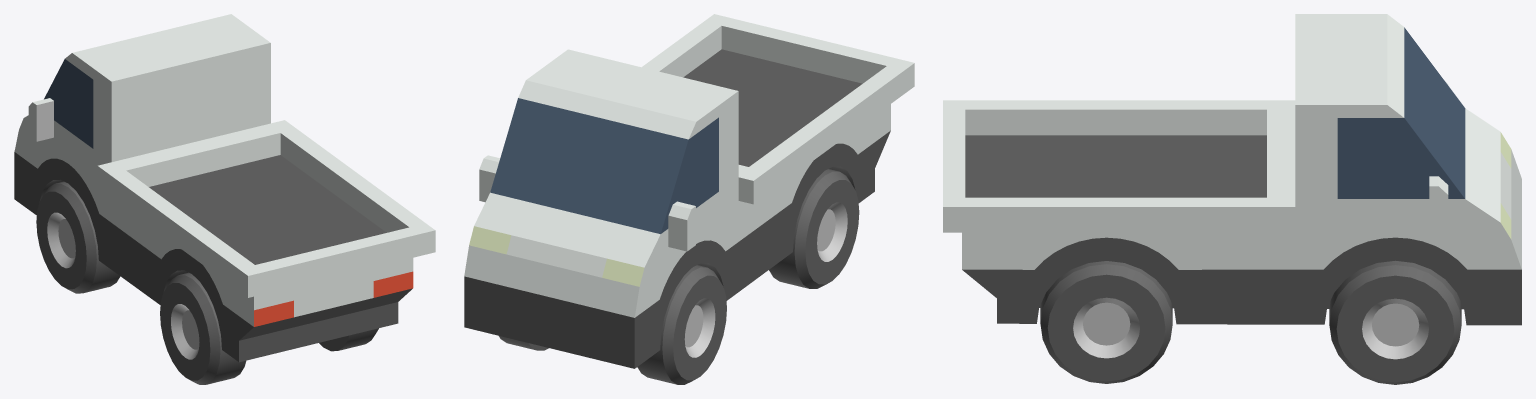
File: carTruckFlat.fbx
3 views of the same model, side by side, from view 1: azimuth 30°, elevation 25°; view 2: azimuth 150°, elevation 25°; view 3: azimuth 270°, elevation 25° (orthographic). The views are drawn at different scales.
Visible parts, largest first — view 1: body 13, wheelBackLeft 13, wheelFrontLeft 13, wheelBackRight 13; view 2: body 13, wheelBackLeft 13, wheelFrontLeft 13; view 3: body 13, wheelFrontRight 13, wheelBackRight 13.
Part boxes in pixels (x1,y1,x2,y2): body 13: [14, 14, 435, 362]; wheelBackLeft 13: [160, 272, 246, 384]; wheelFrontLeft 13: [36, 181, 120, 293]; wheelBackRight 13: [319, 328, 378, 351]; body 13: [464, 14, 914, 368]; wheelBackLeft 13: [769, 169, 859, 288]; wheelFrontLeft 13: [637, 265, 726, 384]; body 13: [943, 14, 1521, 325]; wheelFrontRight 13: [1329, 260, 1461, 384]; wheelBackRight 13: [1040, 261, 1172, 383].
Size of the model in its own units: 5.55 by 6.57 by 12.25.
